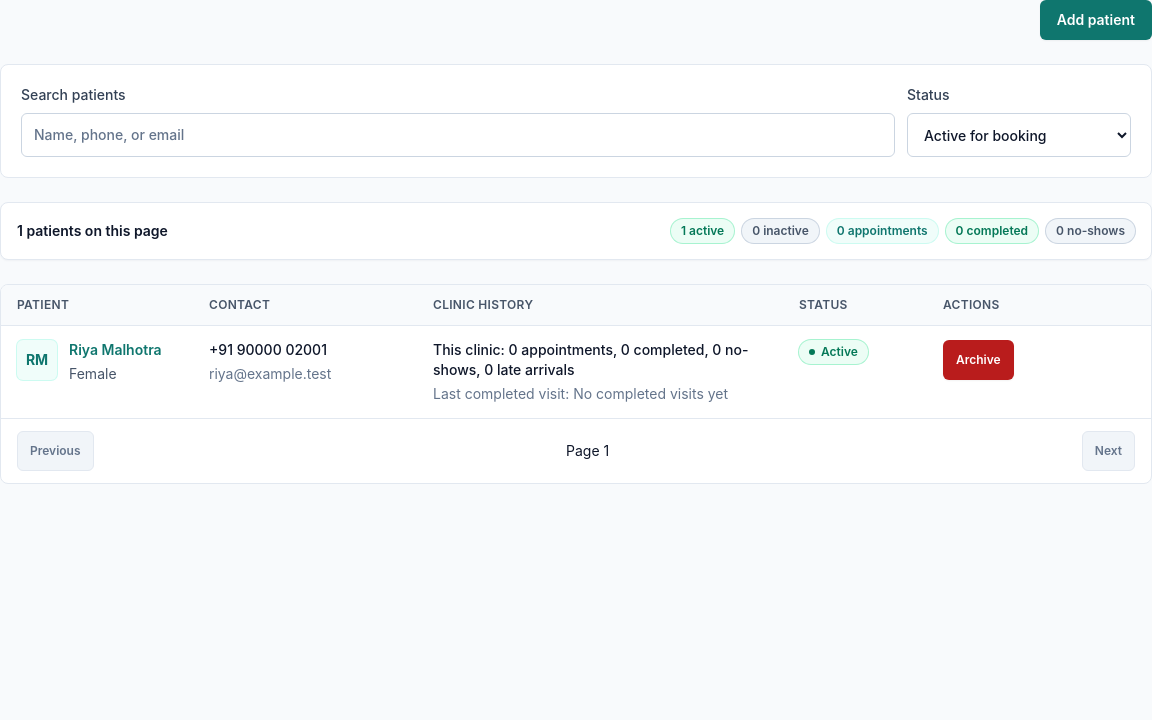
Test: PatientsPage edit workflow › reloads detail-only fields after saving while the profile stays open
Click the button with aria-label "view profile for riya malhotra".
click(115, 350)  # box [69, 340, 162, 360]
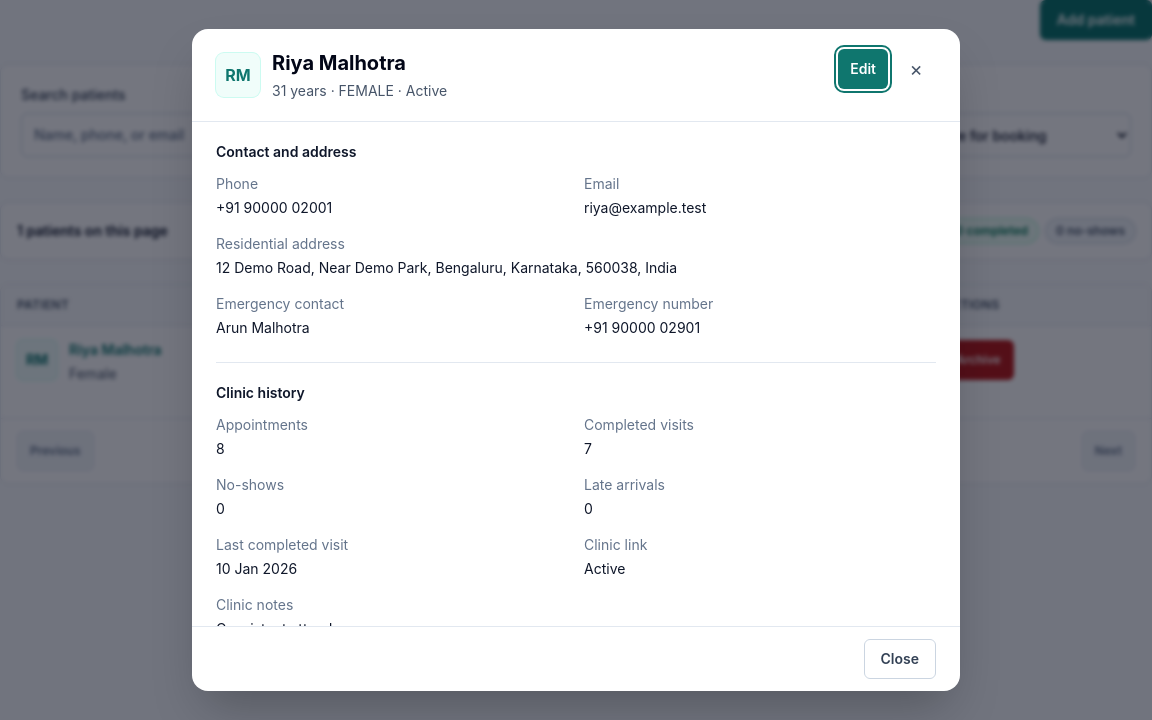
Click the button "Edit".
click(863, 69)  # box [838, 49, 888, 89]
(page scrolled)
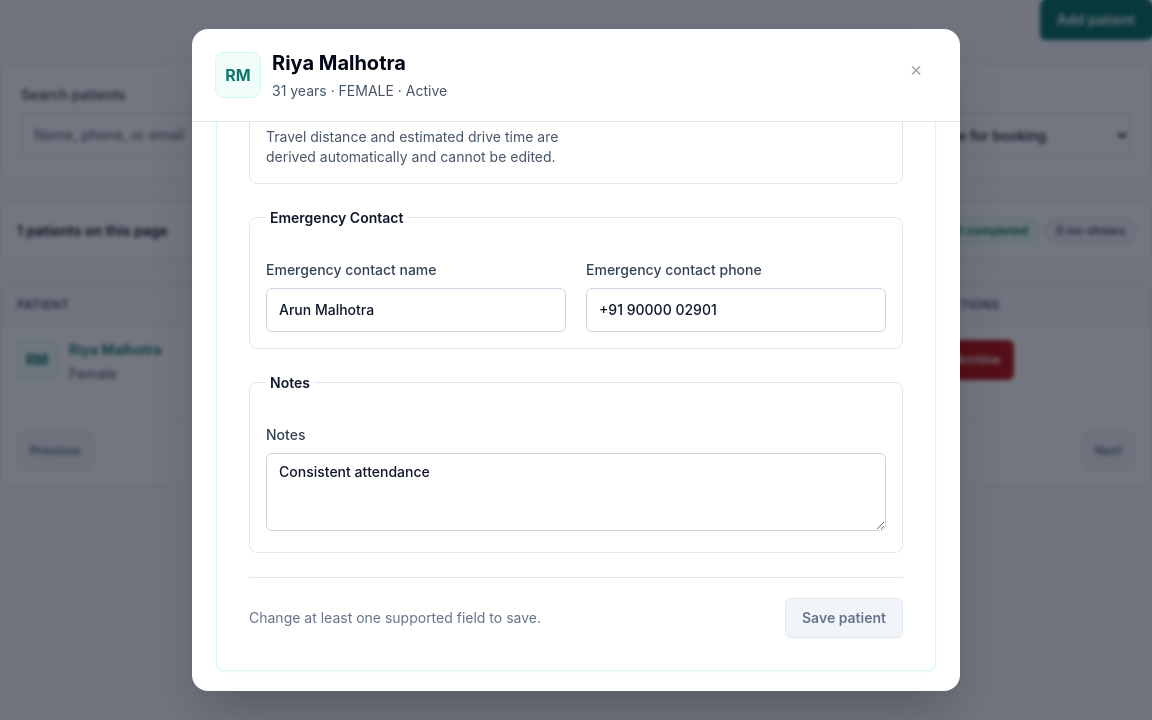
Replace the text in the text box labelled "Notes" with "Updated clinic note" at (576, 492), box [266, 453, 886, 531]
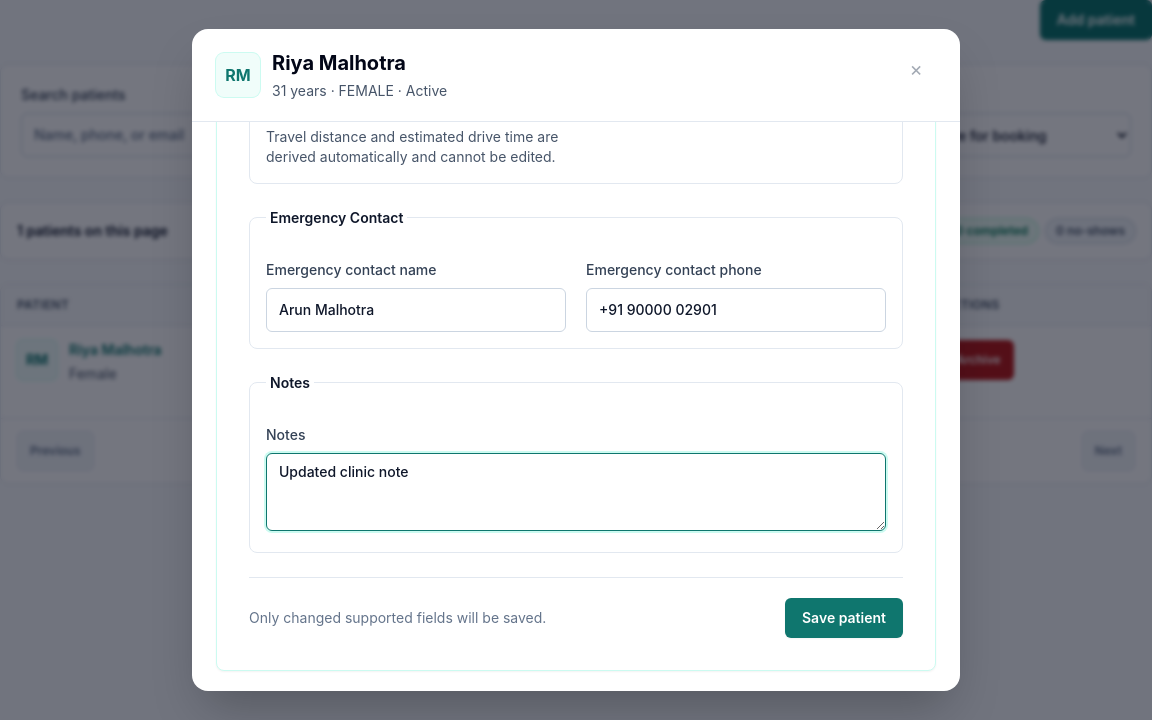
Click the button "Save patient".
click(844, 618)  # box [785, 598, 903, 638]
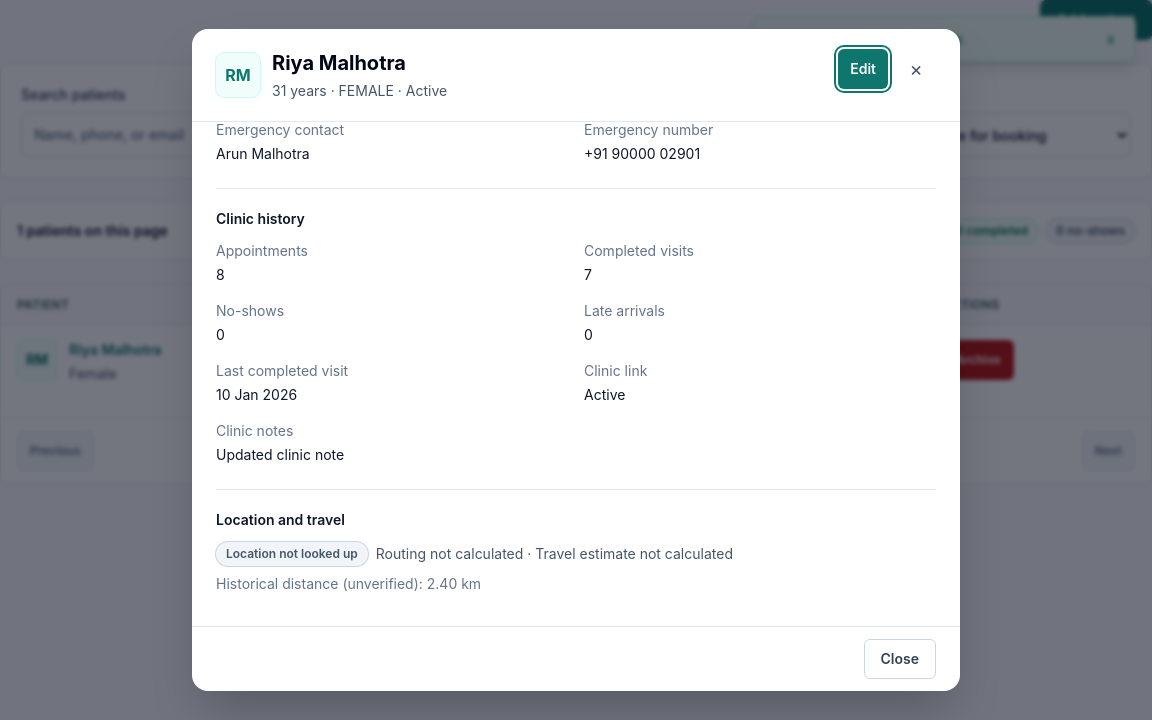
Expected: the text "Updated clinic note" is shown, [216, 446, 344, 463]
Click the button "Edit".
click(863, 69)  # box [838, 49, 888, 89]
(page scrolled)
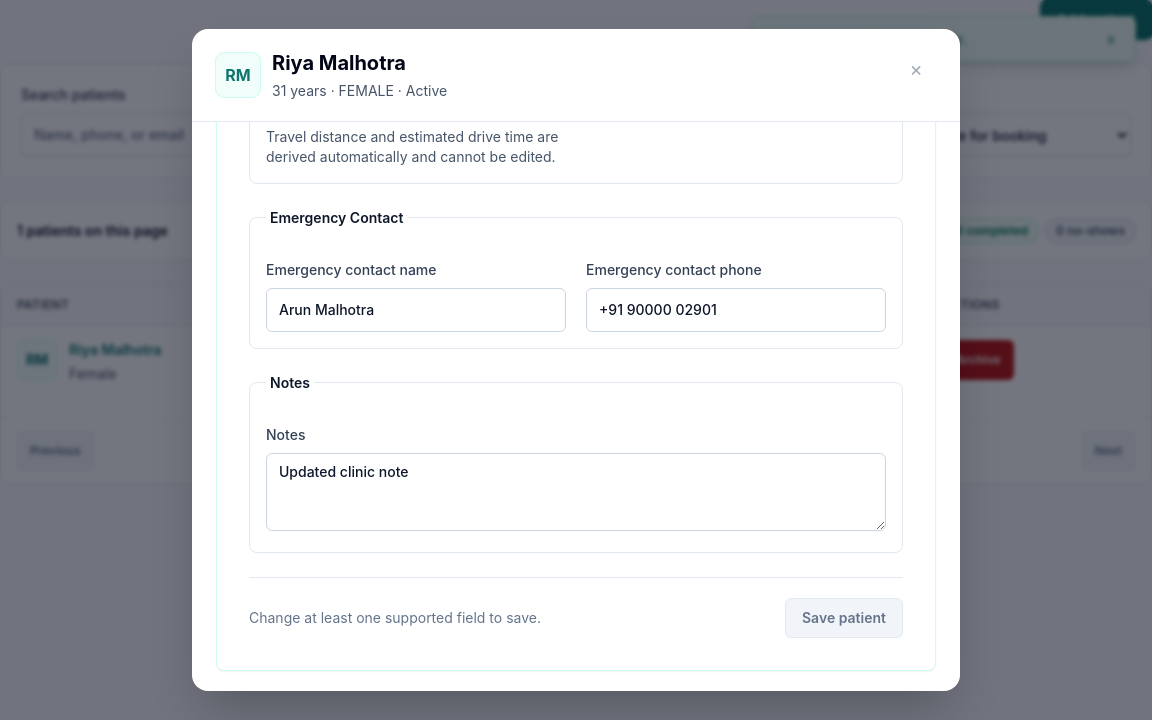
Expected: the text box labelled "Notes" holds "Updated clinic note", [266, 453, 886, 531]
